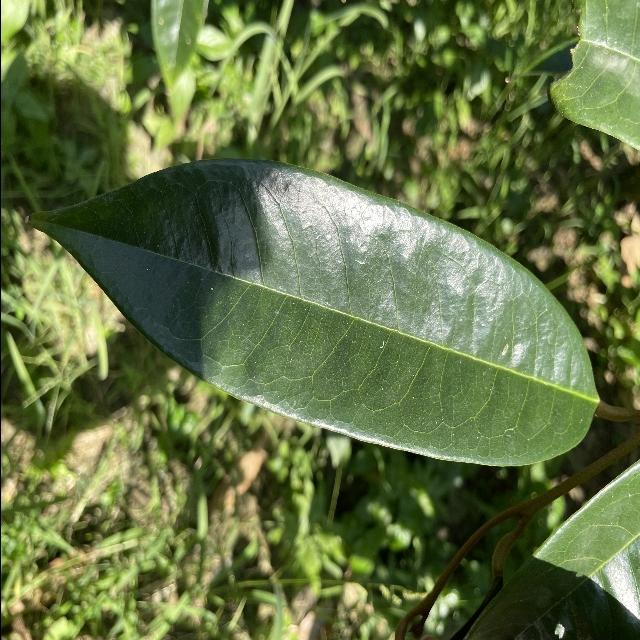No Disease: (9, 142, 611, 475)
